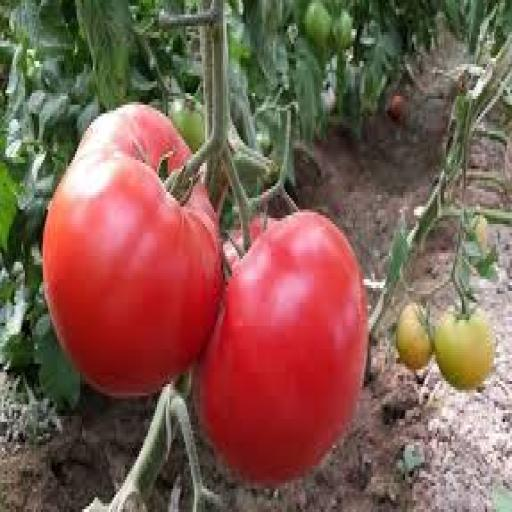tomato: (43, 105, 222, 395), (195, 213, 367, 482), (434, 312, 494, 389), (397, 303, 433, 369), (170, 99, 205, 151), (304, 0, 331, 49), (334, 9, 353, 52), (223, 230, 242, 267), (388, 94, 406, 122), (475, 216, 488, 250), (257, 131, 272, 154)
